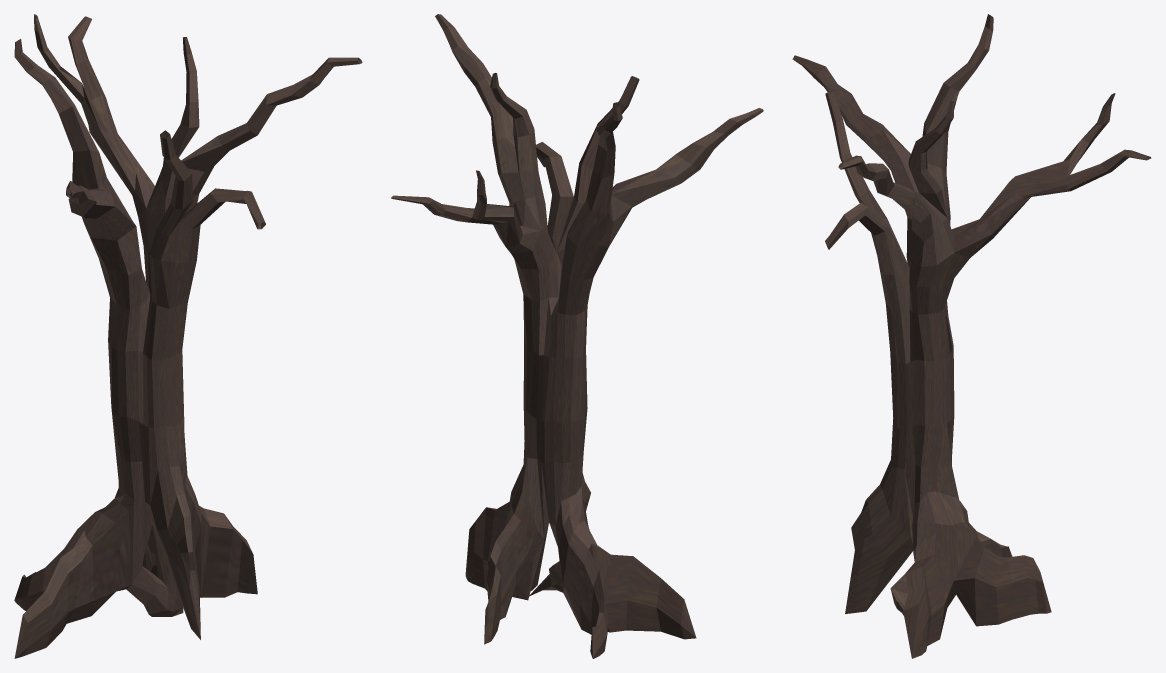
Rendered from buttressRootTree.fbx.
The picture shows the model from 3 angles, left to right: view 1: azimuth 30°, elevation 25°; view 2: azimuth 150°, elevation 25°; view 3: azimuth 270°, elevation 25°; orthographic projection. The views are drawn at different scales.
Visible parts, largest first — view 1: buttressRootTree; view 2: buttressRootTree; view 3: buttressRootTree.
Part boxes in pixels (x1,y1,x2,y2): buttressRootTree: (14,14,362,658); buttressRootTree: (391,14,763,658); buttressRootTree: (792,14,1151,658).
Bounding box in the file's own units: 1327 × 2313 × 1347.
